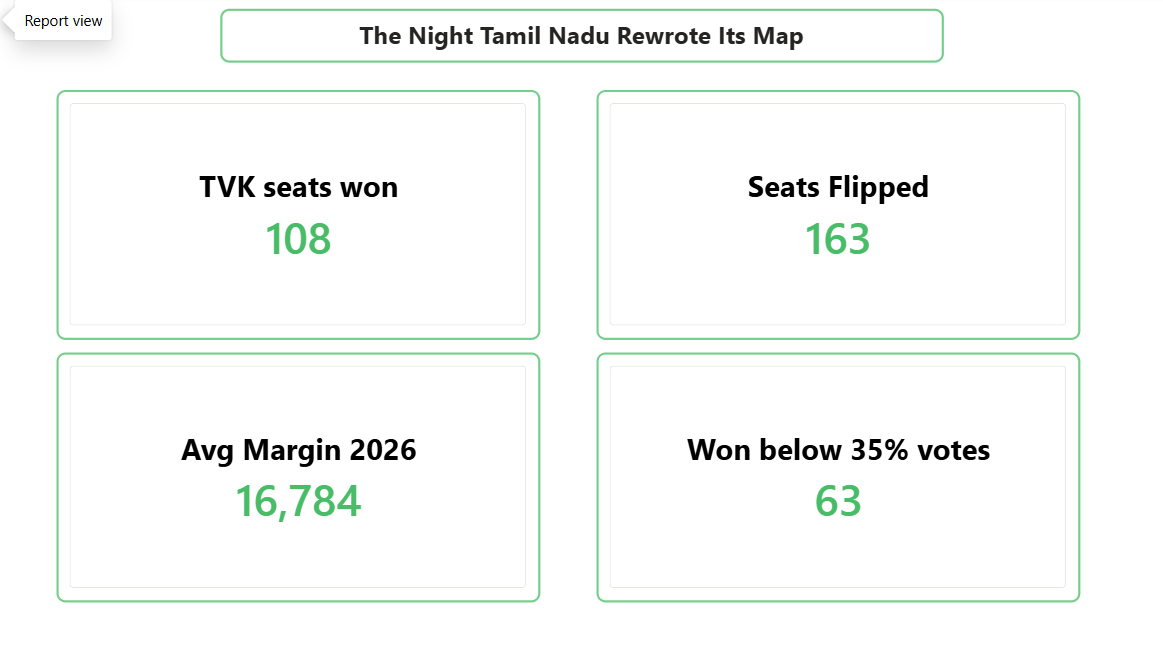

The page's visual inventory and layout, read from the dashboard file:
{"tool":"powerbi","page":{"name":"KPI page","canvas":[1280,720],"ordinal":0},"visuals":[{"type":"textbox","box":[242.9,15.1,794.5,59],"z":0},{"type":"cardVisual","fields":{"Data":["tn_master.Seats Flipped"]},"box":[655.9,104.8,531,274.4],"z":1000},{"type":"cardVisual","fields":{"Data":["tn_master.Avg Margin 2026"]},"box":[63.1,393,531,274.4],"z":2000},{"type":"cardVisual","title":"TVK seats won","fields":{"Data":["tn_master.TVK Seats"]},"box":[63.1,104.8,531,274.4],"z":3000},{"type":"cardVisual","fields":{"Data":["tn_master.Won Below 35pct"]},"box":[655.9,393,531,274.4],"z":4000}]}

Visuals, with their boxes in screenshot pixels (x1, y1, x2, y2), scaled from the page's 1280x720 canvas onto the 1163x649 screenshot:
textbox: region(221, 14, 943, 67)
cardVisual - tn_master.Seats Flipped: region(596, 94, 1078, 342)
cardVisual - tn_master.Avg Margin 2026: region(57, 354, 540, 602)
"TVK seats won" cardVisual: region(57, 94, 540, 342)
cardVisual - tn_master.Won Below 35pct: region(596, 354, 1078, 602)
